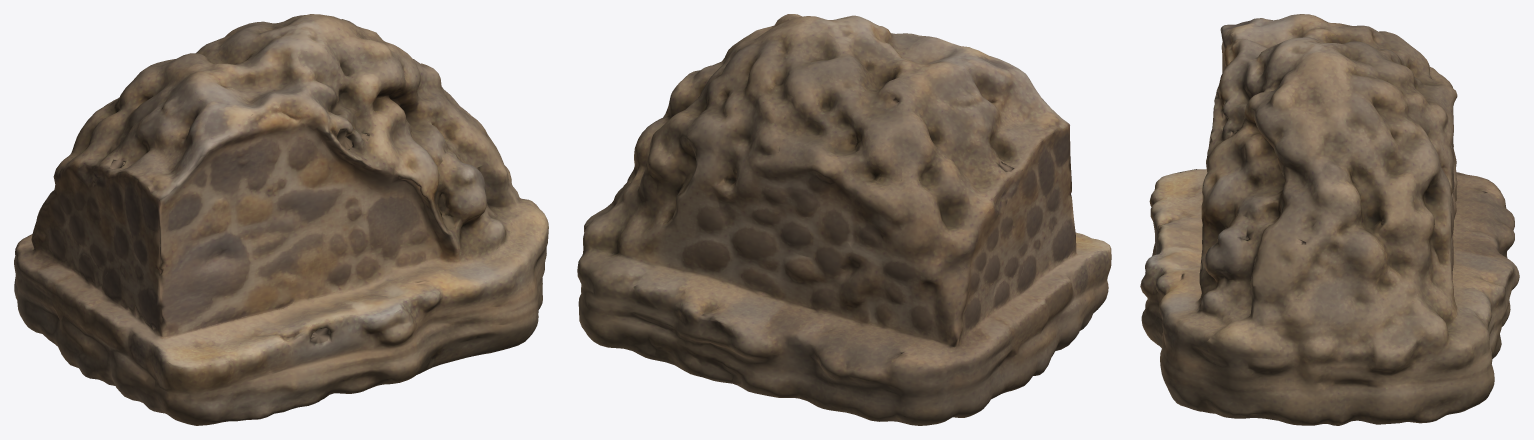
The picture shows the model from 3 angles, left to right: view 1: azimuth 30°, elevation 25°; view 2: azimuth 150°, elevation 25°; view 3: azimuth 270°, elevation 25°; orthographic projection. The views are drawn at different scales.
Parts seen in each view (by area): view 1: world; view 2: world; view 3: world.
Part boxes in pixels (x1,y1,x2,y2): world: (14, 14, 548, 425); world: (577, 14, 1111, 425); world: (1140, 14, 1519, 425).
Size of the model in its own units: 0.6 by 0.4063 by 0.4783.
Materials: 1 (1 with a texture image).
